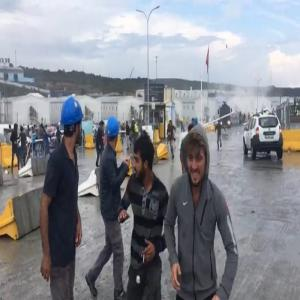blue: (61, 98, 84, 144), (107, 116, 120, 148)
none: (183, 127, 211, 185), (135, 135, 156, 179)
